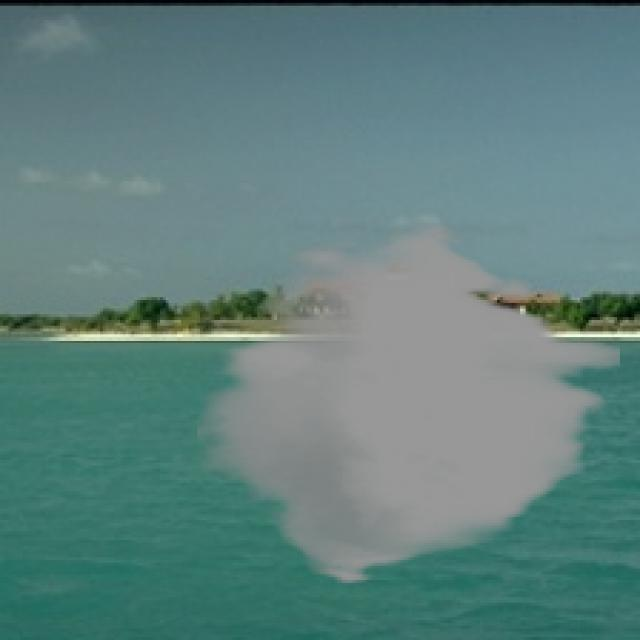smoke: (197, 223, 620, 586)
